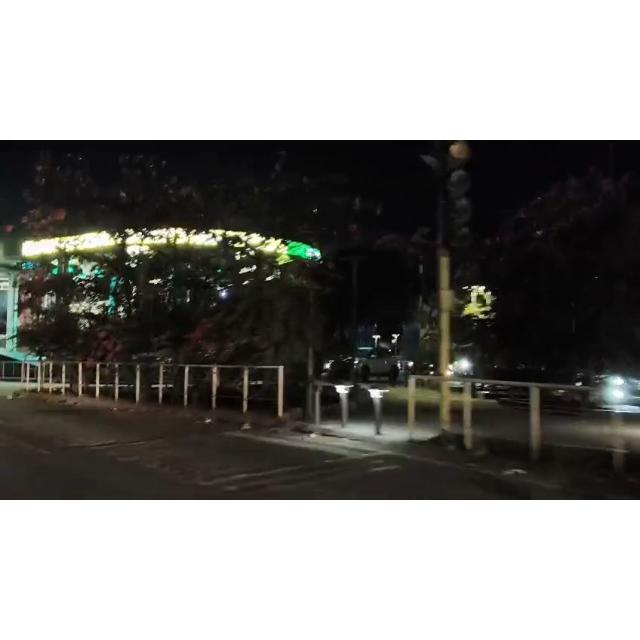car: (324, 345, 406, 381)
